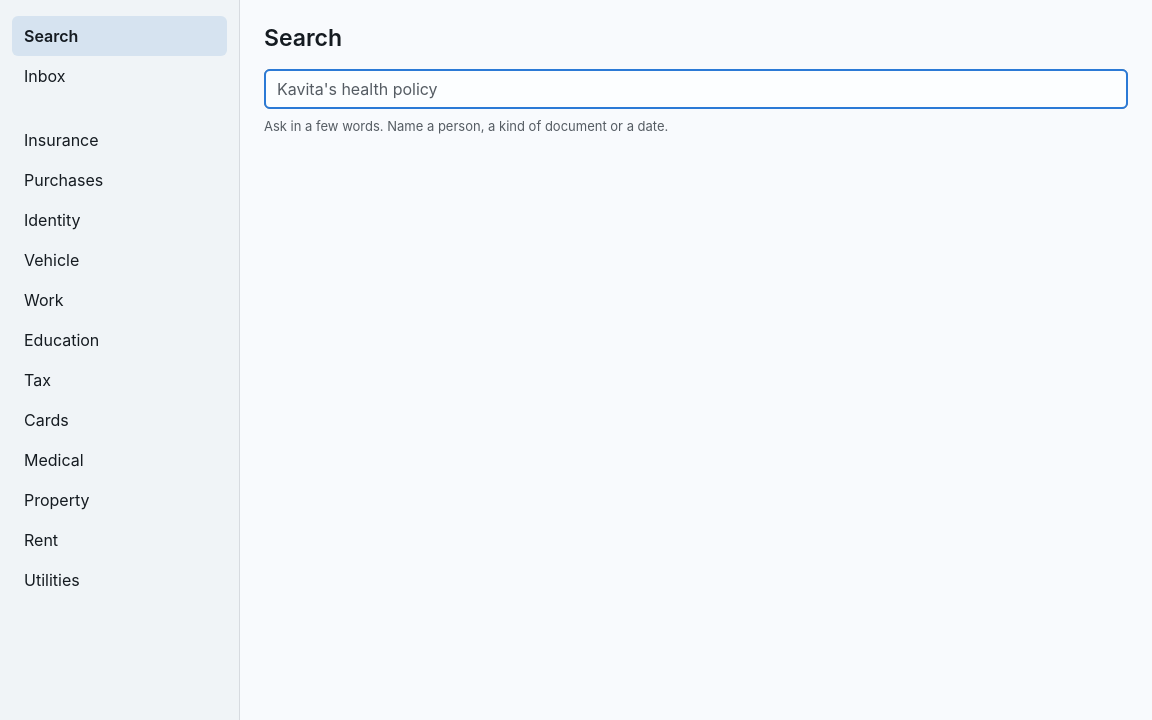
Test: the search screen › a failed search shows the sentence the API gave
Type "zzz" into the dropdown named "Ask about your documents" at point(696, 89), box 264,69 -> 1128,109
Wait 150 ms
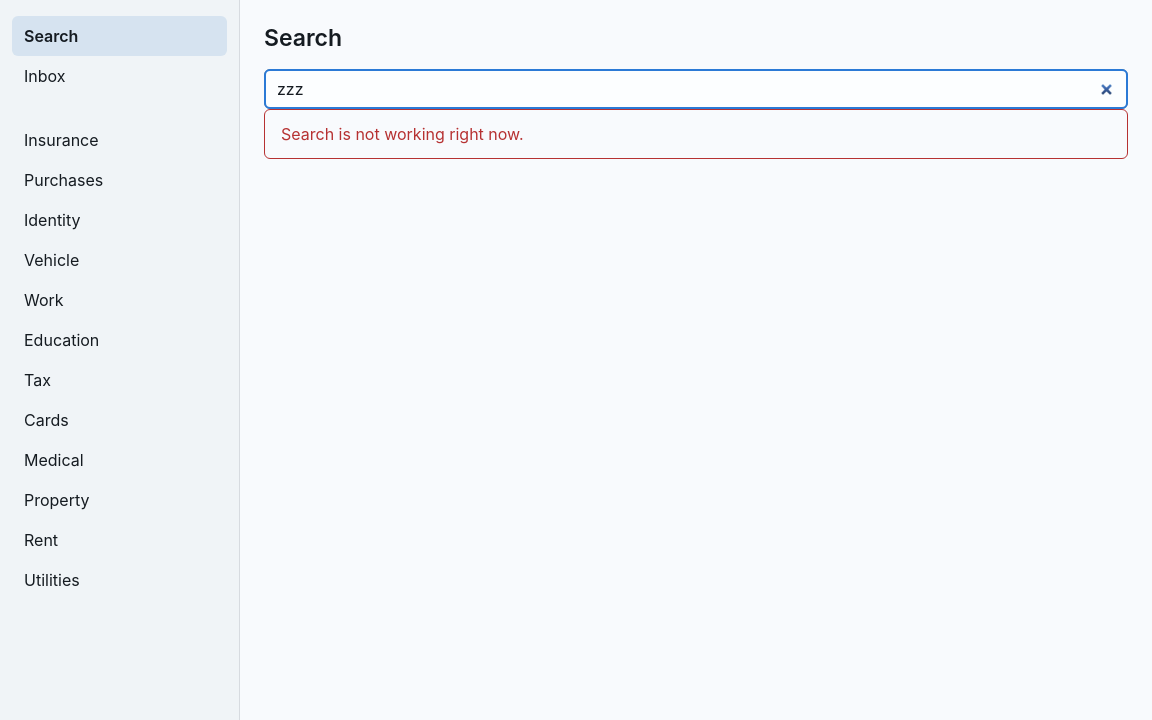
Check: the message reads "Search is not working right now.", box 281,124 -> 524,144
